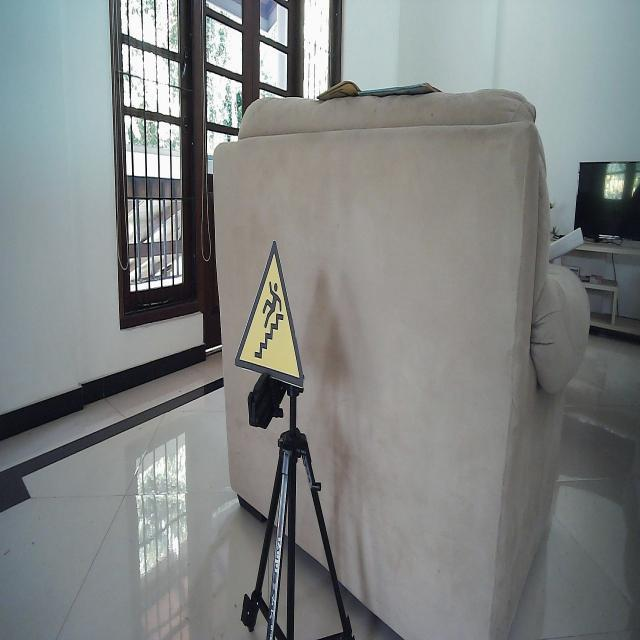stairs: (232, 237, 306, 391)
